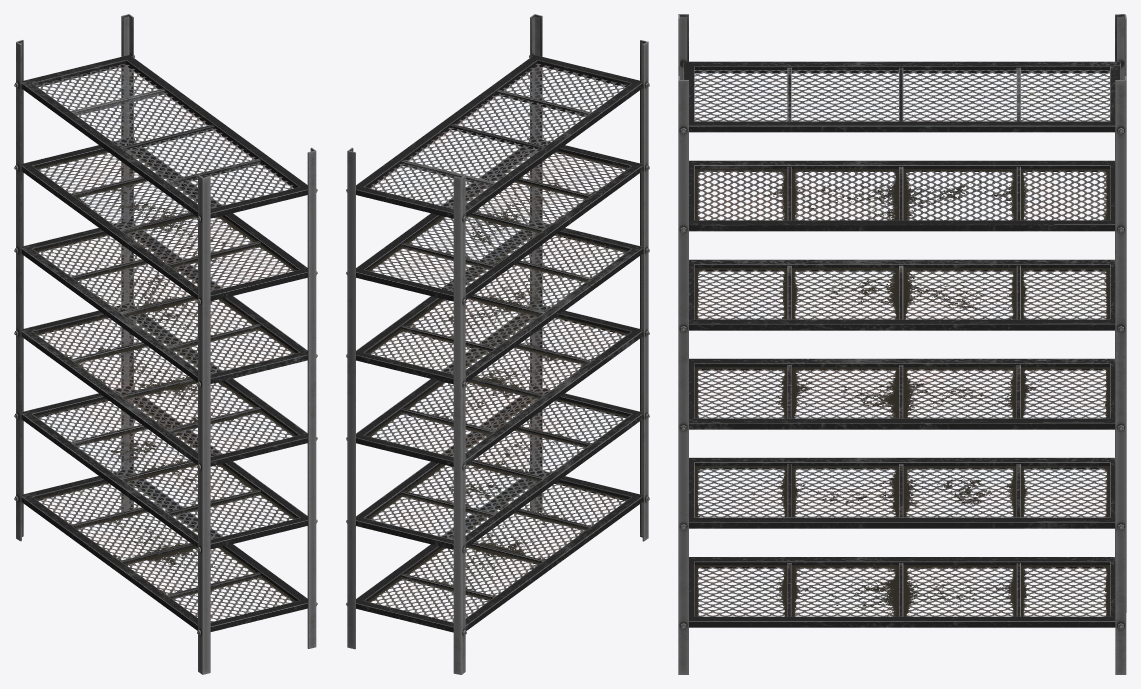
The model's file is shelf.fbx.
3 views of the same model, side by side, from view 1: azimuth 30°, elevation 25°; view 2: azimuth 150°, elevation 25°; view 3: azimuth 270°, elevation 25° (orthographic). The views are drawn at different scales.
Visible parts, largest first — view 1: Cloner_1; view 2: Cloner_1; view 3: Cloner_1.
Part boxes in pixels (<box>): Cloner_1: <box>14,14,317,674</box>; Cloner_1: <box>346,14,649,674</box>; Cloner_1: <box>678,14,1126,674</box>.
Size of the model in its own units: 75.91 by 205 by 300.
